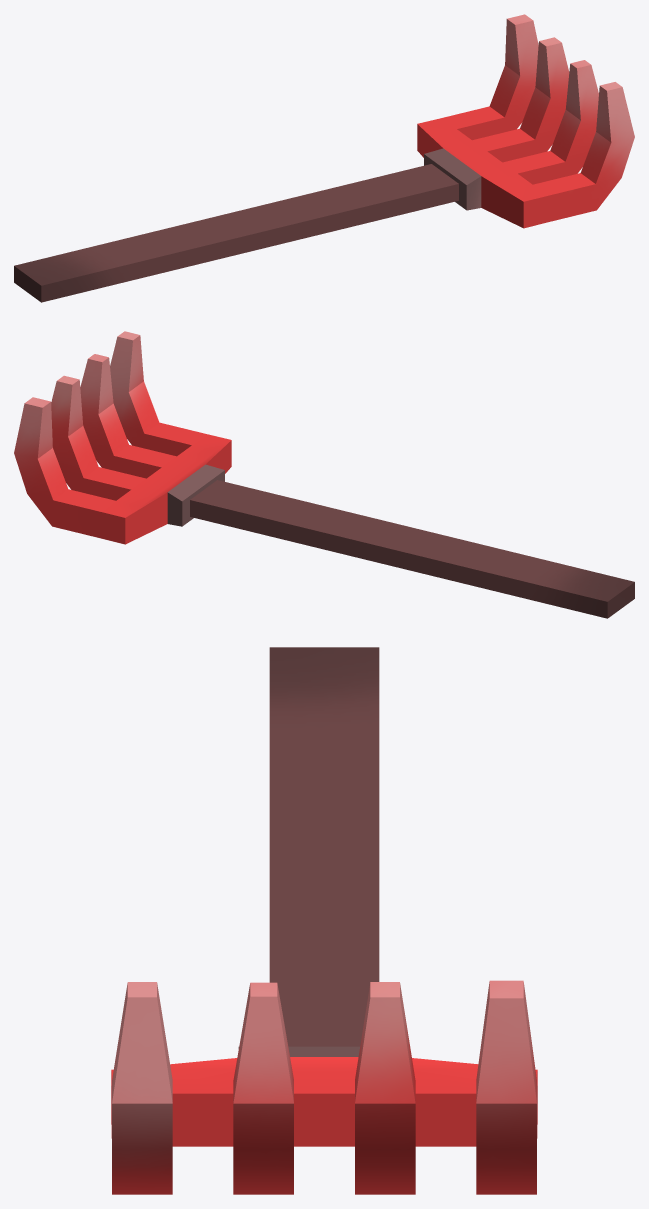
Rendered from rateau.fbx.
The picture shows the model from 3 angles, top to bottom: view 1: azimuth 30°, elevation 25°; view 2: azimuth 150°, elevation 25°; view 3: azimuth 270°, elevation 25°; orthographic projection. The views are drawn at different scales.
Parts seen in each view (by area): view 1: rateau:mesh_rateau; view 2: rateau:mesh_rateau; view 3: rateau:mesh_rateau.
Boxes of the visible parts, x1,y1,x2,y2 form: rateau:mesh_rateau: [14, 14, 634, 302]; rateau:mesh_rateau: [14, 331, 634, 618]; rateau:mesh_rateau: [111, 647, 537, 1194].
Size of the model in its own units: 4.54 by 0.9057 by 1.51.
